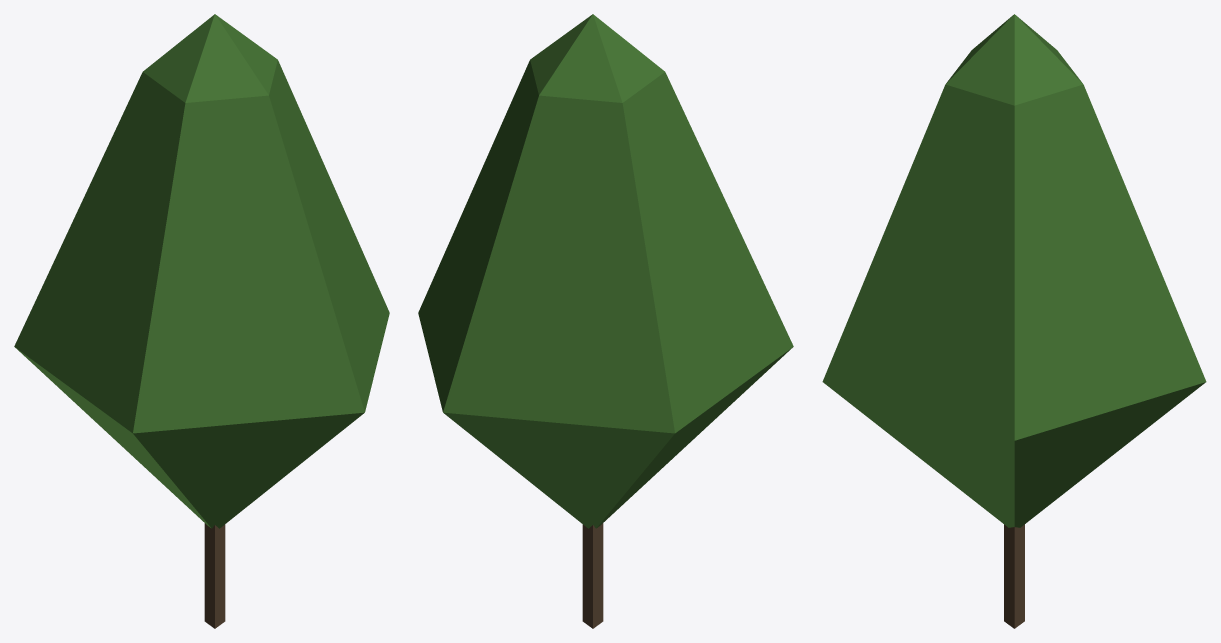
File: upright.L0.5fff013c.glb
3 views of the same model, side by side, from view 1: azimuth 30°, elevation 25°; view 2: azimuth 150°, elevation 25°; view 3: azimuth 270°, elevation 25° (orthographic).
Parts seen in each view (by area): view 1: A-TREES-UPRIGHT; view 2: A-TREES-UPRIGHT; view 3: A-TREES-UPRIGHT.
Part boxes in pixels (x1,y1,x2,y2): A-TREES-UPRIGHT: [14, 14, 389, 628]; A-TREES-UPRIGHT: [418, 14, 793, 628]; A-TREES-UPRIGHT: [822, 14, 1206, 628].
Bounding box in the file's own units: 4.88 × 9 × 5.14.
